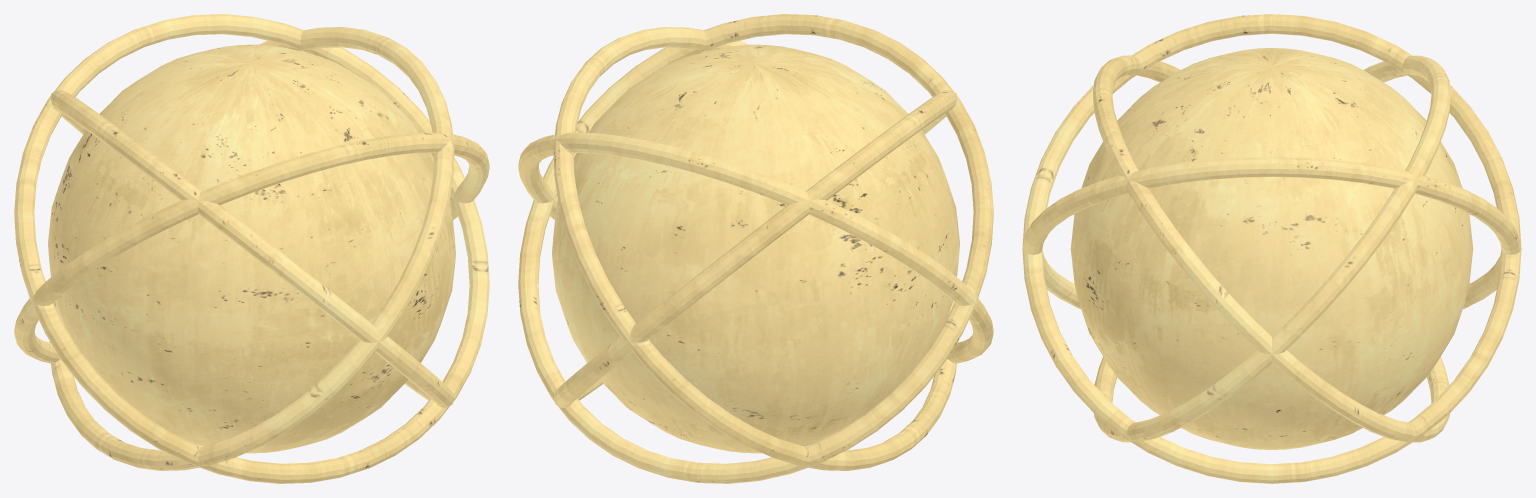
The model's file is Item.glb.
3 views of the same model, side by side, from view 1: azimuth 30°, elevation 25°; view 2: azimuth 150°, elevation 25°; view 3: azimuth 270°, elevation 25° (orthographic).
Parts seen in each view (by area): view 1: Sphere, Torus; view 2: Sphere, Torus; view 3: Sphere, Torus.
Boxes of the visible parts, bbox=[...] form: Sphere: bbox=[48, 44, 455, 453]; Torus: bbox=[14, 14, 489, 483]; Sphere: bbox=[552, 44, 959, 453]; Torus: bbox=[518, 14, 993, 483]; Sphere: bbox=[1070, 48, 1473, 449]; Torus: bbox=[1022, 14, 1521, 483].
Size of the model in its own units: 2.48 by 2 by 2.48.
1 material, 1 textured.
